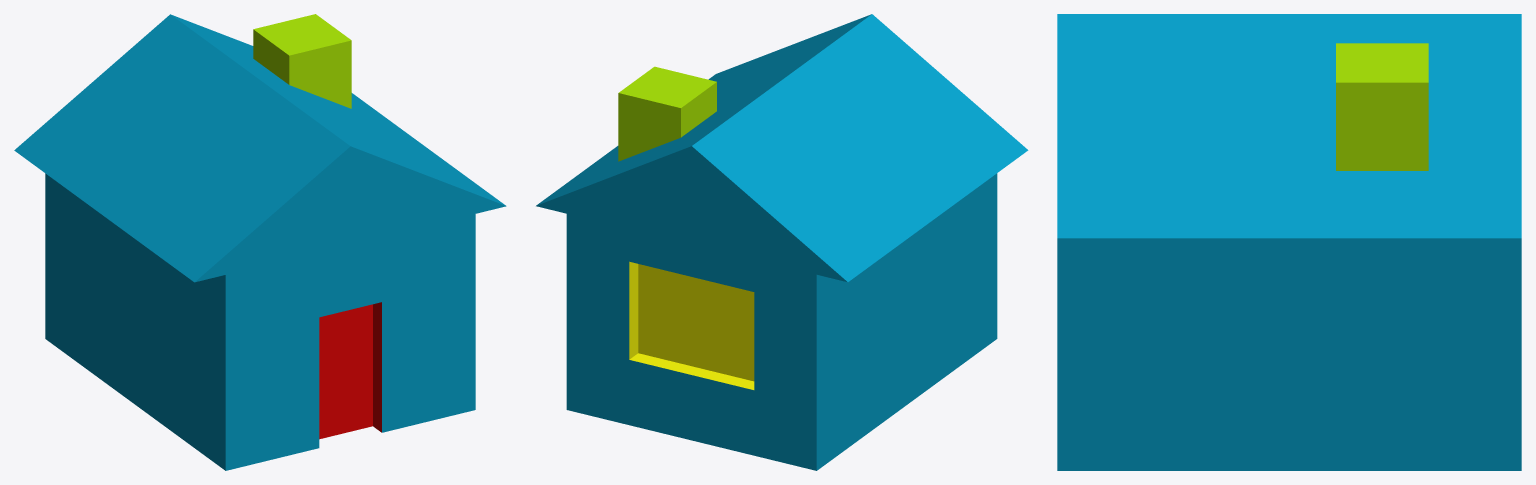
Rendered from House.glb.
The picture shows the model from 3 angles, left to right: view 1: azimuth 30°, elevation 25°; view 2: azimuth 150°, elevation 25°; view 3: azimuth 270°, elevation 25°; orthographic projection. The views are drawn at different scales.
Visible parts, largest first — view 1: Geom3D, Geom3D.001, Geom3D.002; view 2: Geom3D, Geom3D.003, Geom3D.002; view 3: Geom3D, Geom3D.002.
Part boxes in pixels (x1,y1,x2,y2): Geom3D: (14, 14, 506, 470); Geom3D.001: (319, 302, 381, 439); Geom3D.002: (253, 14, 351, 108); Geom3D: (536, 14, 1028, 470); Geom3D.003: (629, 261, 754, 389); Geom3D.002: (618, 66, 716, 161); Geom3D: (1057, 14, 1521, 470); Geom3D.002: (1336, 43, 1428, 170).
Size of the model in its own units: 5 by 4.5 by 5.
